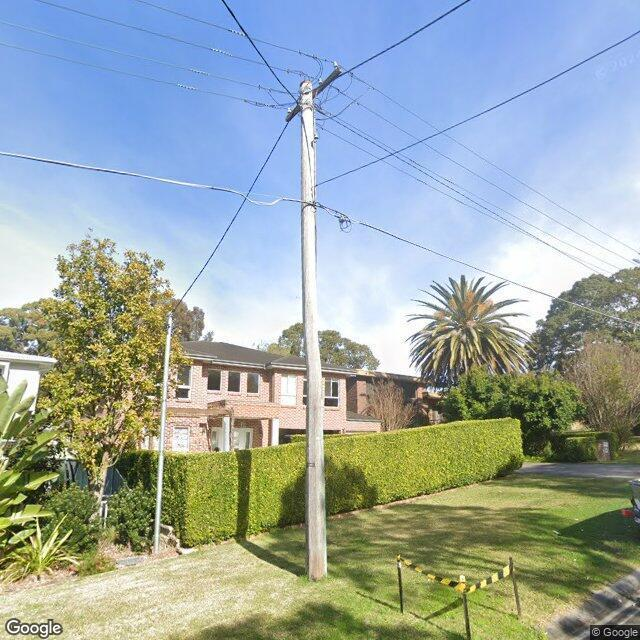crossarm: (284, 66, 342, 123)
steel-pole: (153, 311, 174, 553)
timber-pole: (299, 82, 329, 583)
